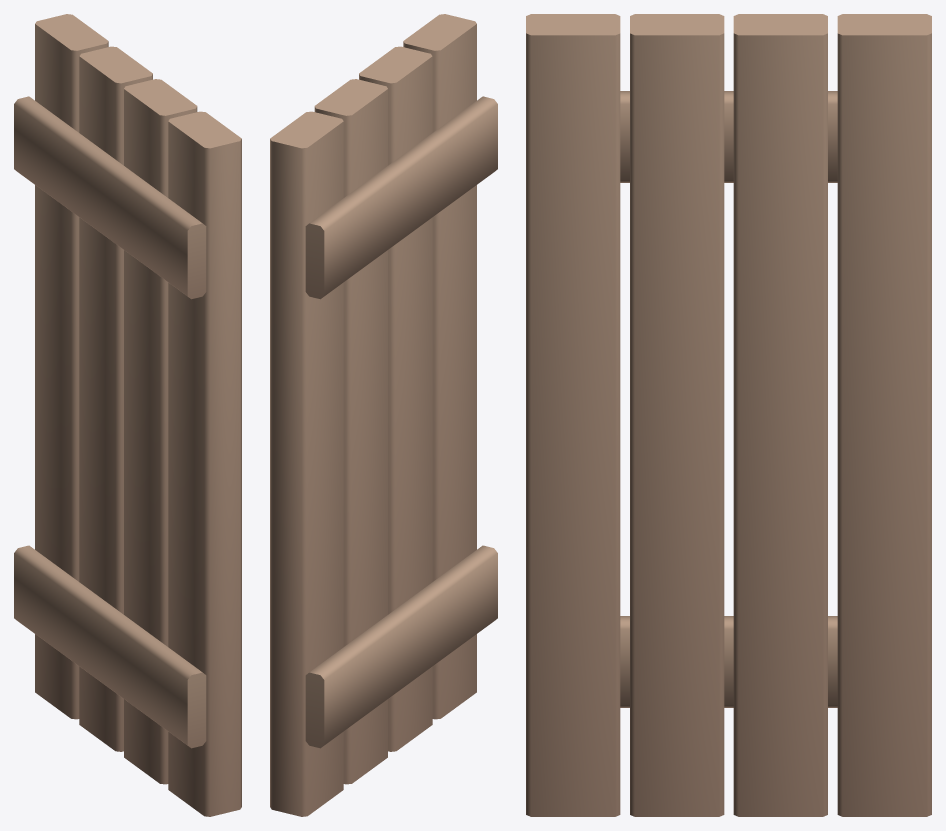
The model's file is shutter-classic-tall (%wall).glb.
3 renders of one model, left to right at view 1: azimuth 30°, elevation 25°; view 2: azimuth 150°, elevation 25°; view 3: azimuth 270°, elevation 25°, orthographic. The views are drawn at different scales.
Parts seen in each view (by area): view 1: shutter-classic-tall (%wall); view 2: shutter-classic-tall (%wall); view 3: shutter-classic-tall (%wall).
Part boxes in pixels (x1,y1,x2,y2): shutter-classic-tall (%wall): [14, 14, 241, 816]; shutter-classic-tall (%wall): [270, 14, 497, 816]; shutter-classic-tall (%wall): [526, 14, 931, 816].
Bounding box in the file's own units: 0.075 × 0.85 × 0.4.
